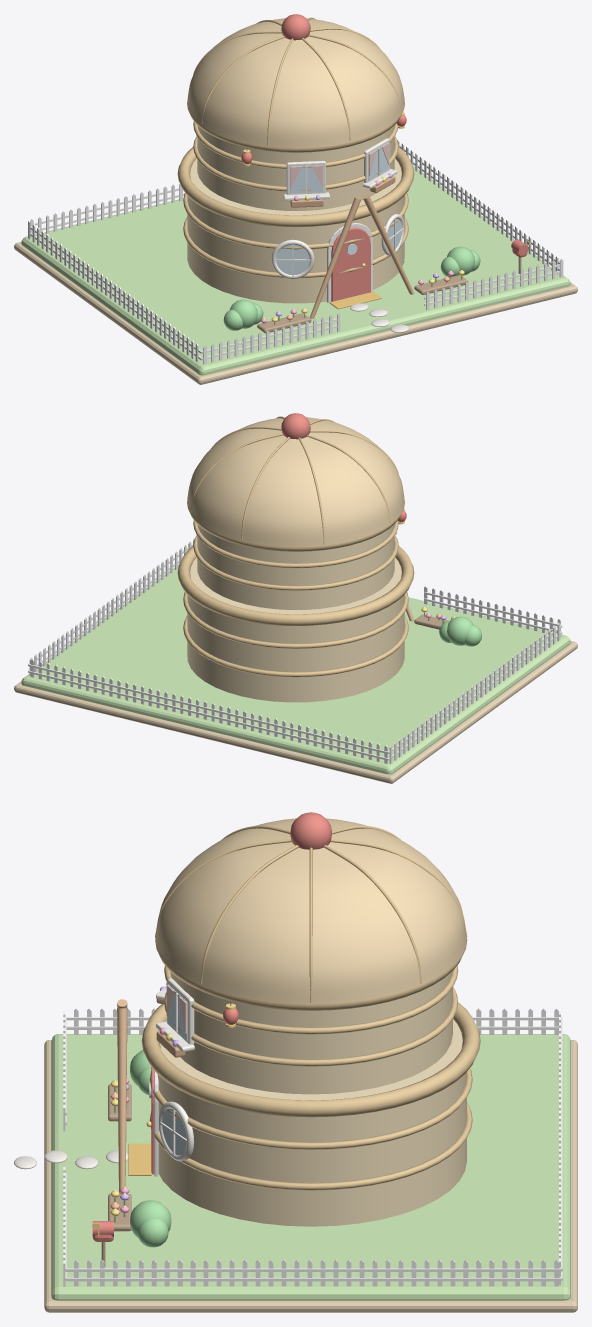
Rendered from building_dumpling_L08.glb.
3 views of the same model, one above another, from view 1: azimuth 30°, elevation 25°; view 2: azimuth 150°, elevation 25°; view 3: azimuth 270°, elevation 25° (orthographic). The views are drawn at different scales.
Parts seen in each view (by area): view 1: dumpling_L8; view 2: dumpling_L8; view 3: dumpling_L8.
Part boxes in pixels (bbox=[...]): dumpling_L8: bbox=[14, 14, 577, 384]; dumpling_L8: bbox=[14, 413, 577, 783]; dumpling_L8: bbox=[14, 812, 577, 1312].
Bounding box in the file's own units: 26.61 × 17.17 × 23.89.
